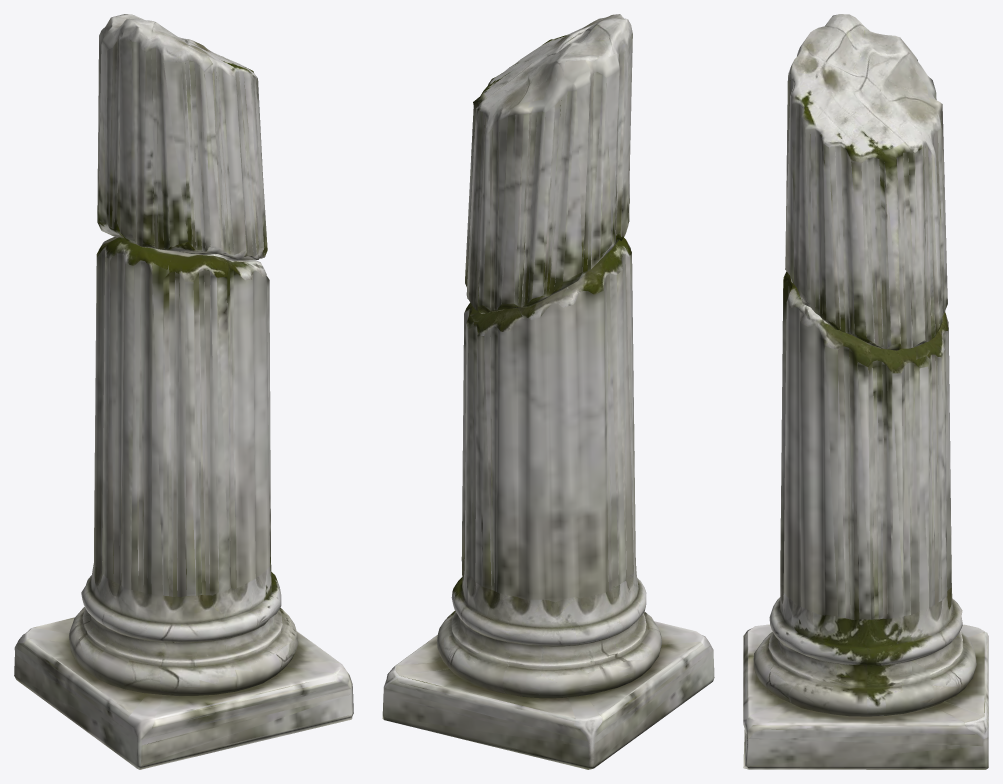
Rendered from prop-column.glb.
3 views of the same model, side by side, from view 1: azimuth 30°, elevation 25°; view 2: azimuth 150°, elevation 25°; view 3: azimuth 270°, elevation 25° (orthographic). The views are drawn at different scales.
Bounding box in the file's own units: 0.3227 × 1 × 0.3289.
Materials: 1 (1 with a texture image).
